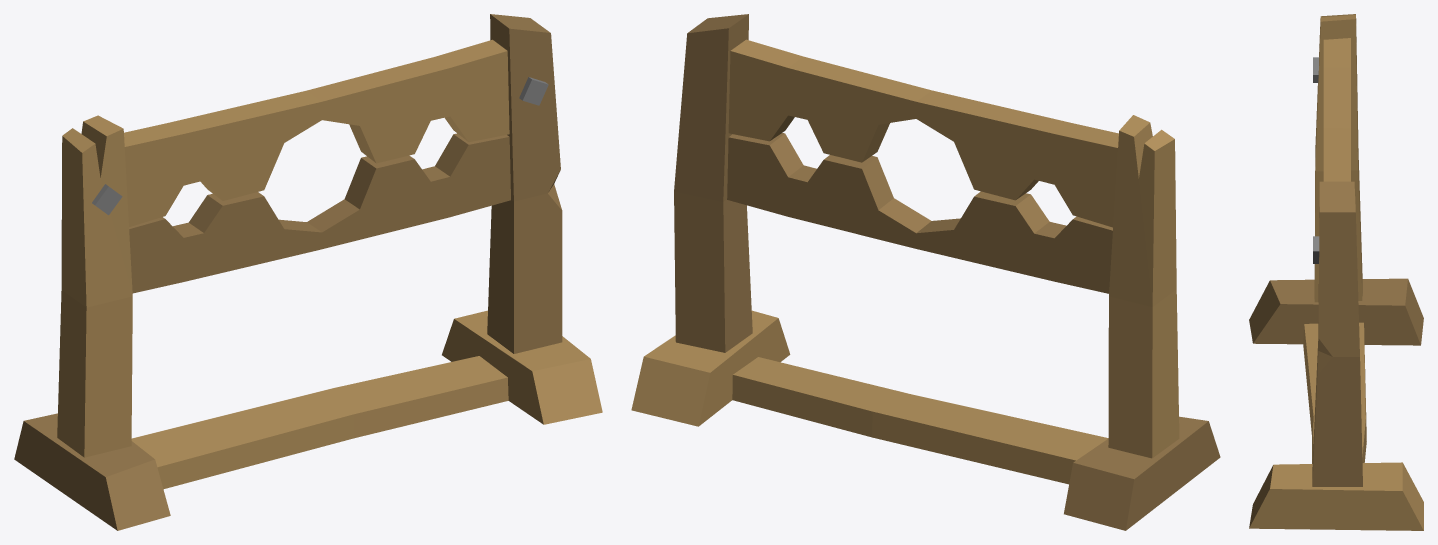
The model's file is Stocks.gltf.
The picture shows the model from 3 angles, left to right: view 1: azimuth 30°, elevation 25°; view 2: azimuth 150°, elevation 25°; view 3: azimuth 270°, elevation 25°; orthographic projection. The views are drawn at different scales.
Parts seen in each view (by area): view 1: Stocks2; view 2: Stocks2; view 3: Stocks2.
Boxes of the visible parts, x1,y1,x2,y2 form: Stocks2: (14, 14, 602, 530); Stocks2: (631, 14, 1220, 530); Stocks2: (1249, 14, 1423, 530).
Size of the model in its own units: 0.3829 by 0.2719 by 0.133.
1 material, 1 textured.
